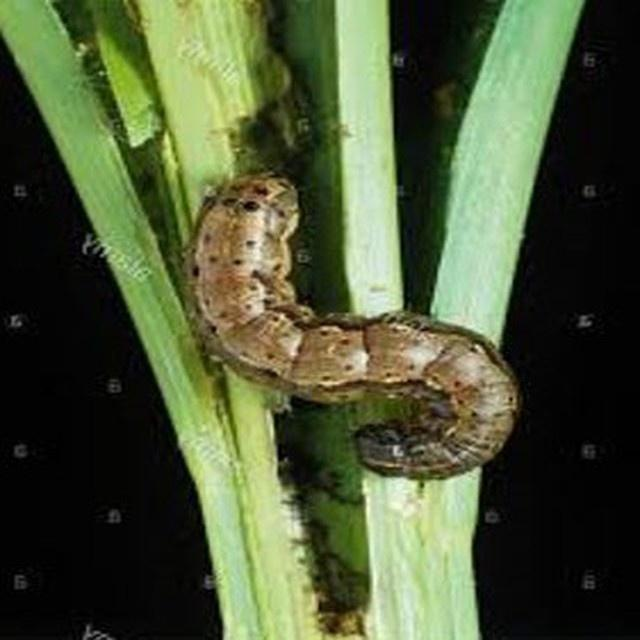Plaga: (190, 175, 518, 478)
